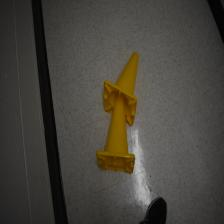cone: (96, 92, 135, 174), (104, 51, 140, 127)
